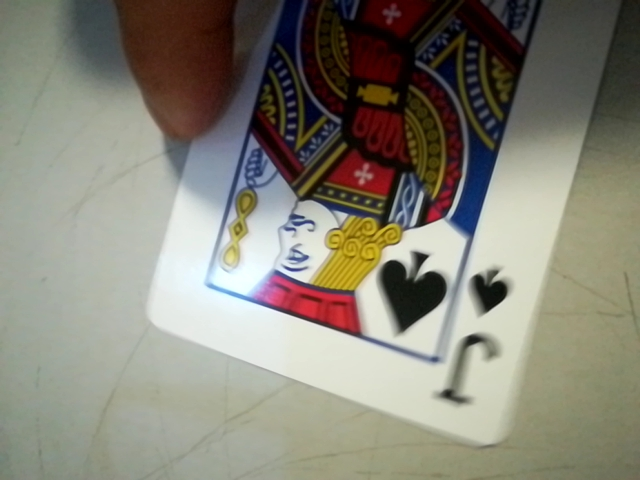ht j: (440, 252, 520, 424)
